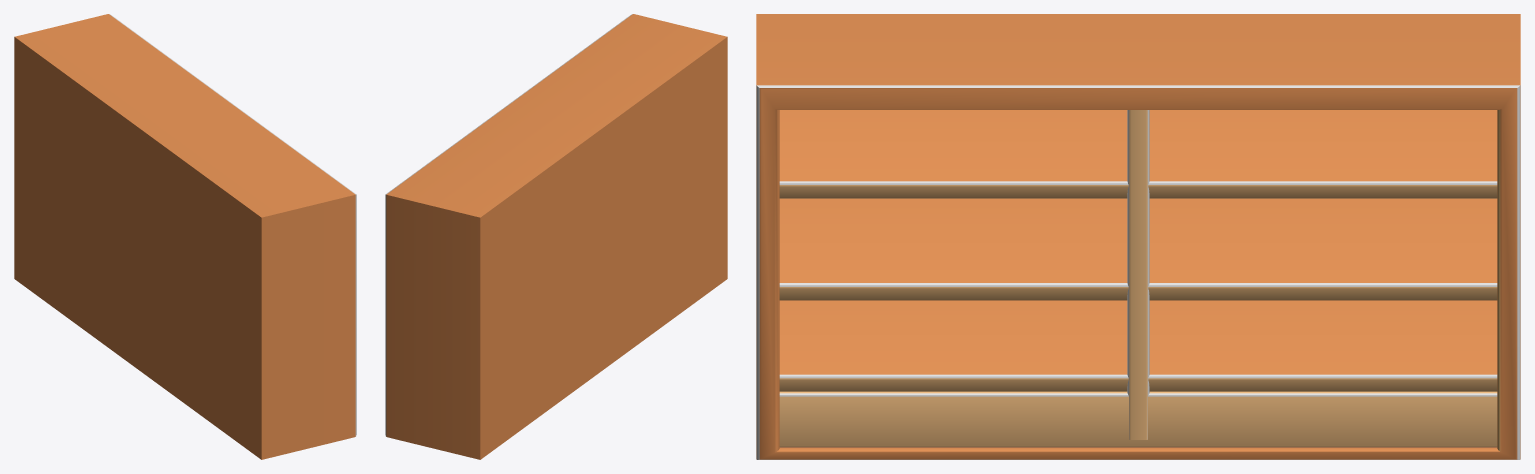
File: ShoeShelf.fbx
The picture shows the model from 3 angles, left to right: view 1: azimuth 30°, elevation 25°; view 2: azimuth 150°, elevation 25°; view 3: azimuth 270°, elevation 25°; orthographic projection. The views are drawn at different scales.
Parts seen in each view (by area): view 1: BackSide.001, MainCase.001; view 2: BackSide.001, MainCase.001; view 3: MainCase.001, shelf.009, shelf.010, shelf.008, ShelfKapak.001, MidleLine.001.
Part boxes in pixels (x1,y1,x2,y2): BackSide.001: (14, 47, 261, 458); MainCase.001: (14, 14, 356, 459); BackSide.001: (480, 47, 727, 458); MainCase.001: (385, 14, 727, 459); MainCase.001: (756, 14, 1520, 459); shelf.009: (779, 198, 1497, 300); shelf.010: (779, 300, 1497, 391); shelf.008: (779, 110, 1497, 198); ShelfKapak.001: (779, 391, 1497, 447); MidleLine.001: (1127, 110, 1149, 439).
Size of the model in its own units: 134 by 323 by 598.
